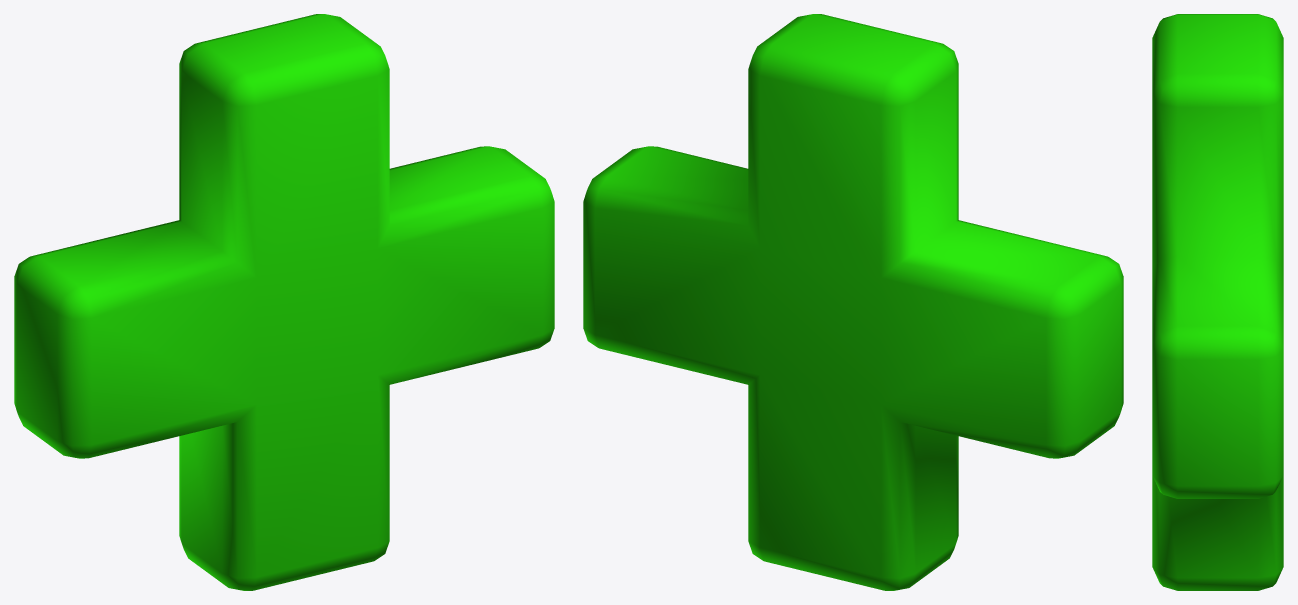
File: booster_hp.fbx
3 views of the same model, side by side, from view 1: azimuth 30°, elevation 25°; view 2: azimuth 150°, elevation 25°; view 3: azimuth 270°, elevation 25° (orthographic).
Visible parts, largest first — view 1: Plane.002; view 2: Plane.002; view 3: Plane.002.
Boxes of the visible parts, x1,y1,x2,y2 form: Plane.002: [14, 14, 554, 590]; Plane.002: [583, 14, 1123, 590]; Plane.002: [1152, 14, 1283, 590].
Size of the model in its own units: 135 by 135 by 31.09.
